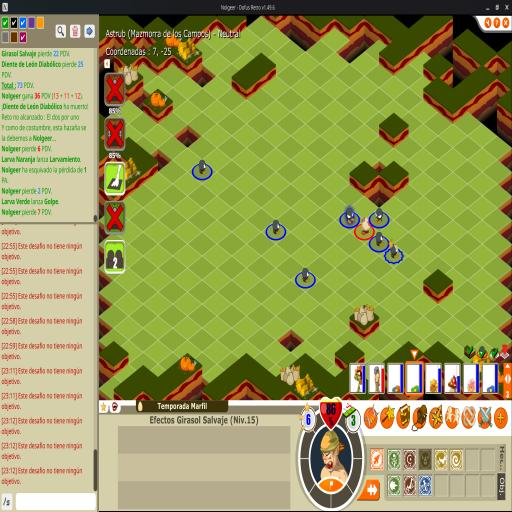Enemigos: (388, 238, 400, 259), (345, 208, 356, 226), (198, 158, 208, 176), (376, 231, 385, 248), (272, 219, 281, 235), (302, 266, 310, 284), (375, 208, 384, 224)
Personaje: (361, 216, 371, 236)
